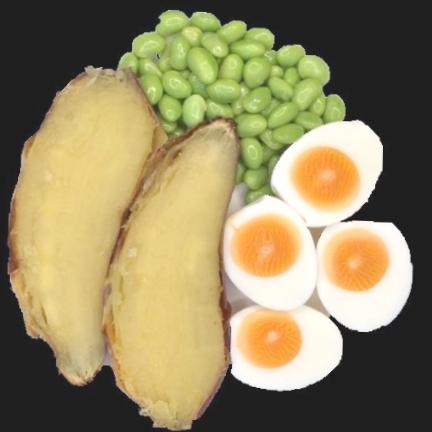egg: (222, 120, 411, 389)
peas: (119, 10, 344, 202)
potato: (8, 67, 238, 429)
